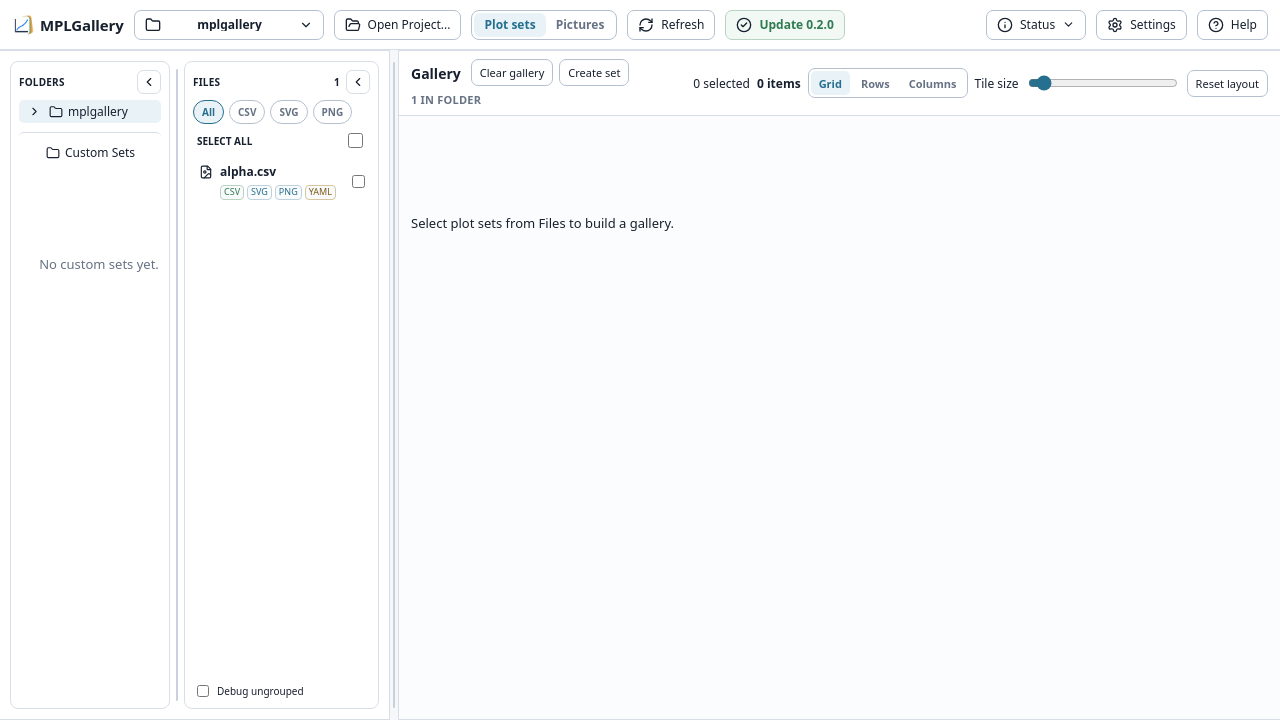
Scenario: App explorer › prompts for available desktop app updates
The width and height of the screenshot is (1280, 720).
Click the button with aria-label "Install MPLGallery 0.2.0" at {"x": 785, "y": 24}, box [725,10,845,40]
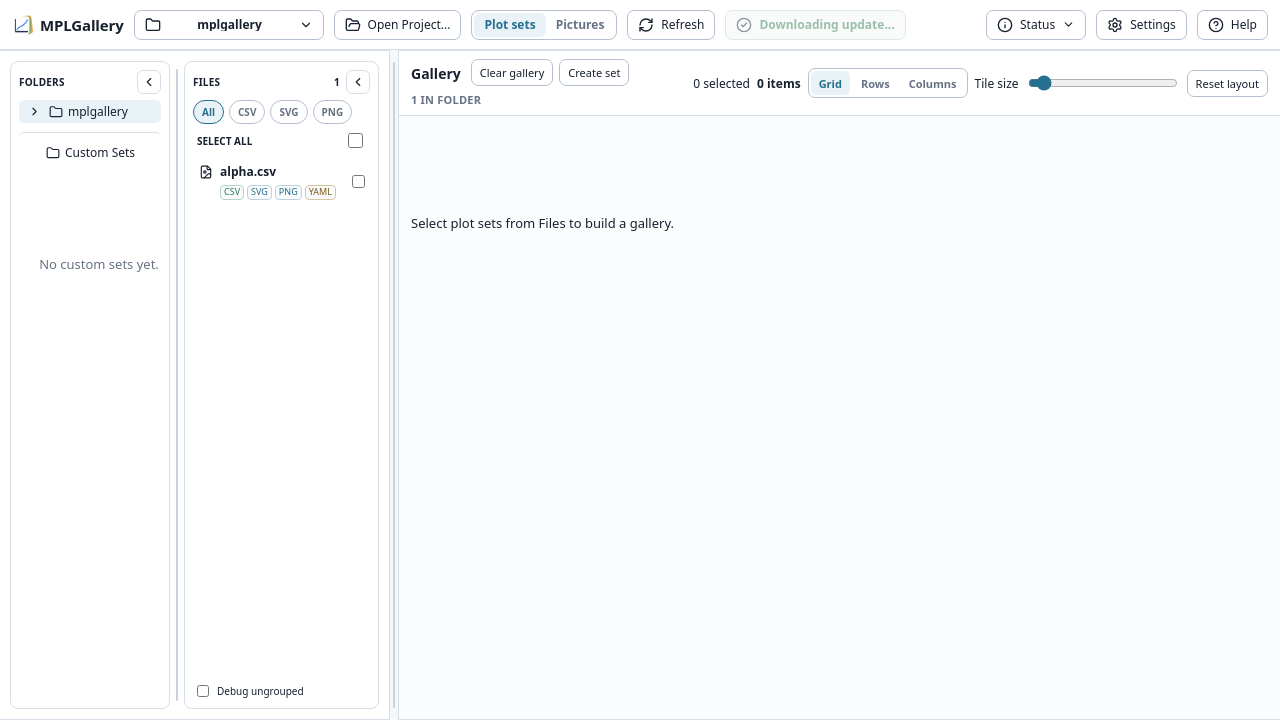
Expected: the button with aria-label "Install MPLGallery 0.2.0" is disabled, [725,10,906,40]
